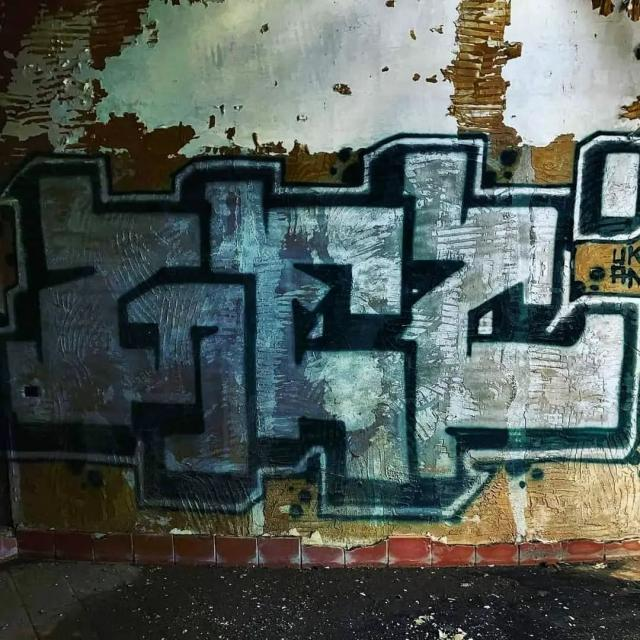-: (1, 138, 640, 536)
